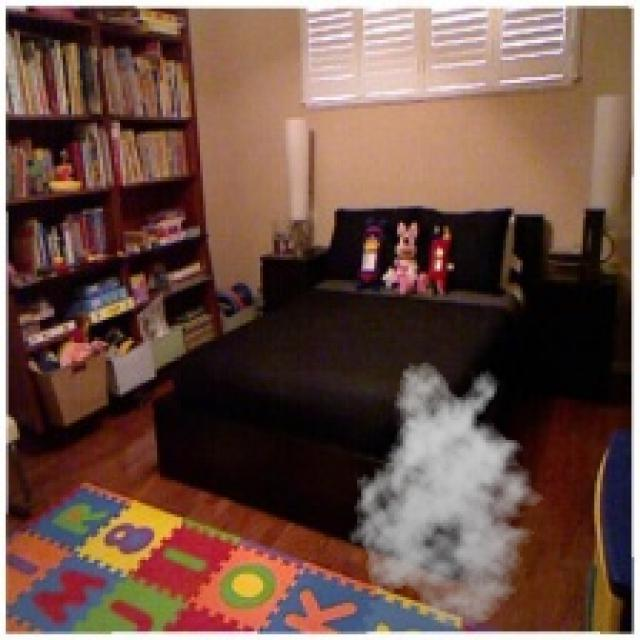smoke: (343, 360, 554, 629)
